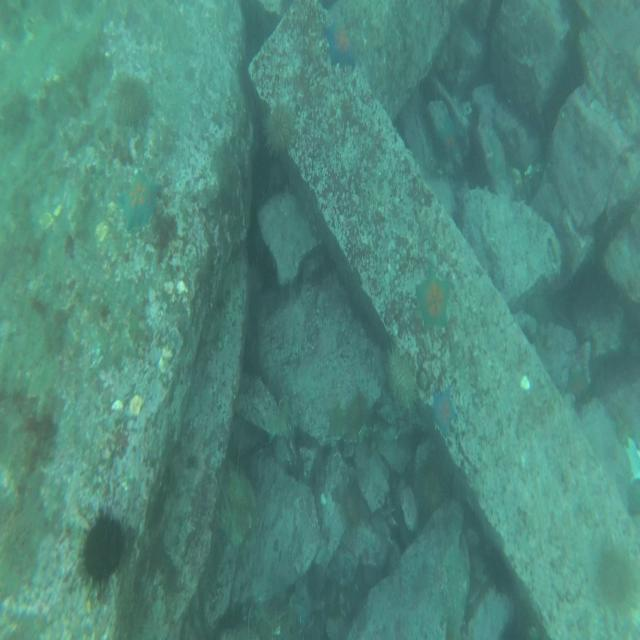echinus: (80, 515, 133, 575), (596, 536, 636, 608), (259, 106, 295, 151), (415, 462, 443, 514), (388, 352, 412, 411), (114, 80, 148, 118)
scallop: (36, 212, 57, 236), (127, 391, 143, 417), (94, 220, 109, 245)
starfish: (118, 168, 158, 231), (416, 270, 451, 329), (326, 15, 358, 70), (432, 381, 456, 434), (438, 117, 462, 163), (488, 129, 508, 177)
